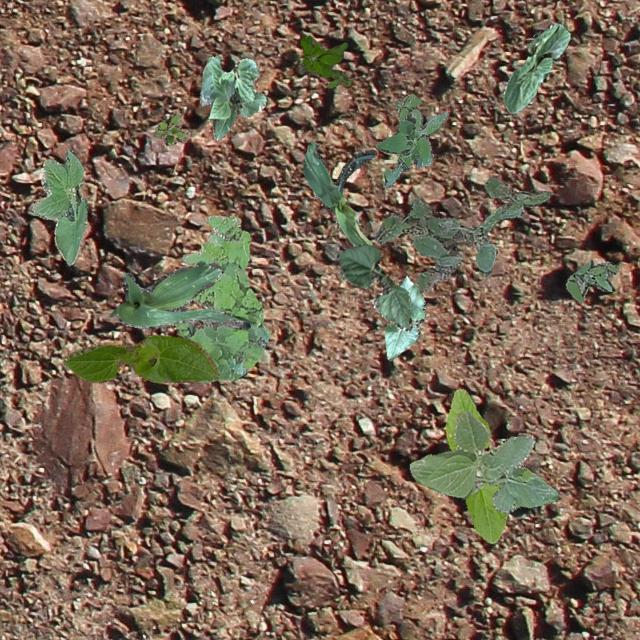crop: (408, 409, 556, 512), (109, 260, 254, 328), (444, 388, 506, 542), (302, 140, 376, 246), (62, 334, 218, 382), (336, 244, 412, 332), (30, 148, 86, 264), (502, 22, 568, 112), (198, 54, 266, 138), (384, 274, 424, 360)
weed: (374, 176, 552, 292), (170, 214, 268, 382), (374, 92, 448, 186), (299, 34, 352, 86), (564, 258, 618, 300), (153, 112, 190, 146)
